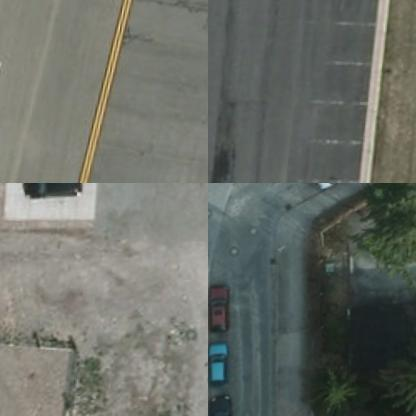car: (208, 277, 245, 333), (208, 336, 238, 390), (22, 183, 89, 207), (208, 391, 246, 415)
